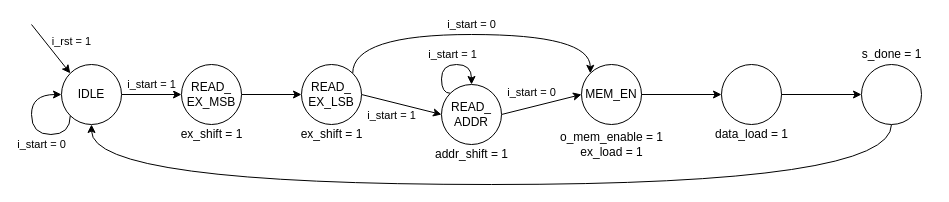
The diagram is 949 pixels wide and 202 high, and some of its shapes have lost their labels. The shapes that lost their labels are listed below. From the top down, each one's box as (x1, y1, x2, y2) in pixels, then its label:
(720, 64, 782, 124): MEM_LD
(860, 64, 922, 124): DONE
